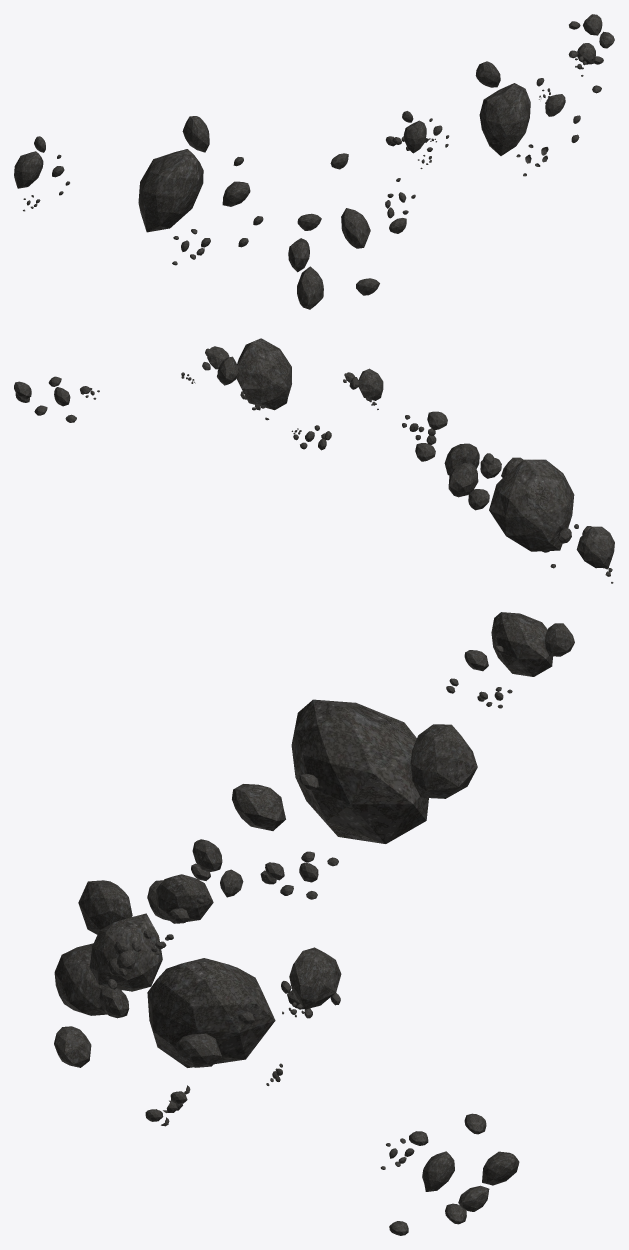
File: asterioid-bits-draco-transformed.glb
The picture shows the model from 3 angles, top to bottom: view 1: azimuth 30°, elevation 25°; view 2: azimuth 150°, elevation 25°; view 3: azimuth 270°, elevation 25°; orthographic projection. The views are drawn at different scales.
Visible parts, largest first — view 1: Asterioid Bit.001; view 2: Asterioid Bit.001; view 3: Asterioid Bit.001.
Part boxes in pixels (left/top/right/bottom): Asterioid Bit.001: left=14, top=14, right=614, bottom=309; Asterioid Bit.001: left=14, top=338, right=614, bottom=583; Asterioid Bit.001: left=54, top=612, right=574, bottom=1235.
Bounding box in the file's own units: 14.55 × 3.47 × 5.59.
Materials: 1 (1 with a texture image).
